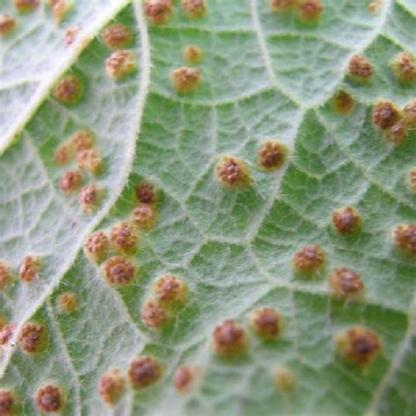black-spot: (243, 173, 416, 416), (34, 99, 172, 290)
